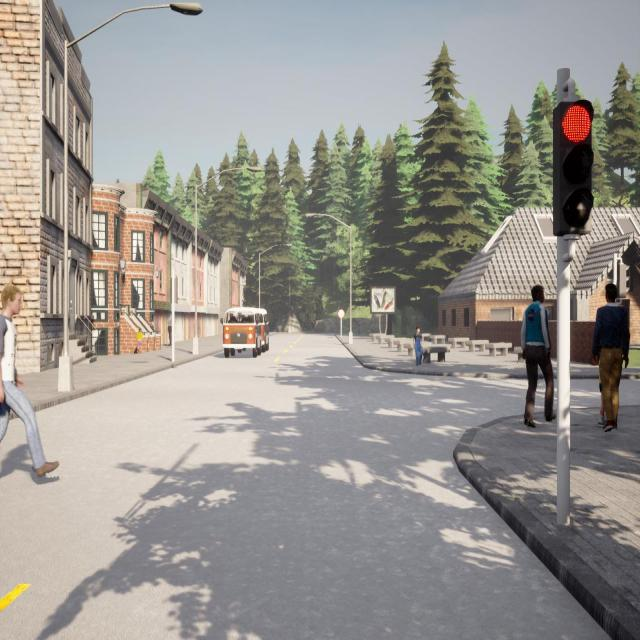Pedestrian: (0, 284, 61, 478), (592, 283, 630, 431), (520, 285, 556, 427), (413, 325, 424, 366), (136, 326, 144, 356), (167, 310, 172, 346), (357, 318, 361, 336)
Traffic_Signs: (337, 309, 345, 319)
Vehicle: (220, 308, 261, 358), (257, 308, 269, 353)
traffic_light: (553, 99, 593, 236), (617, 264, 631, 298)
